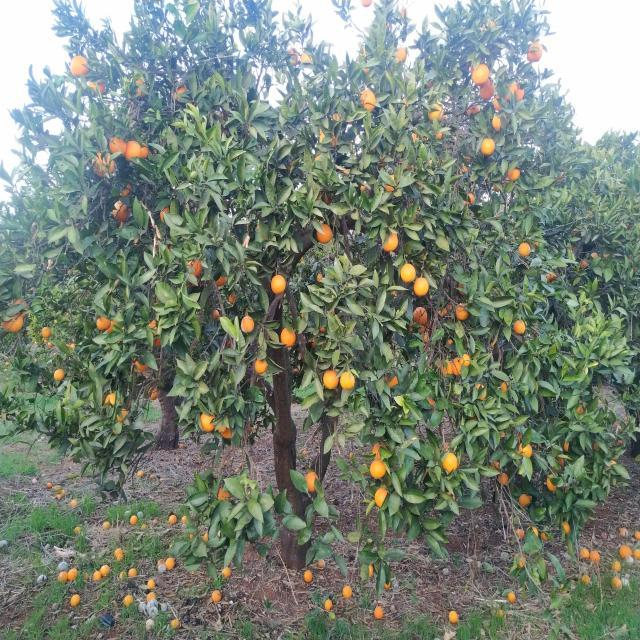Jeruk Sudah Matang: (90, 152, 116, 178), (504, 81, 524, 104), (124, 139, 142, 164), (70, 56, 90, 78), (1, 314, 23, 334), (112, 201, 132, 221), (472, 64, 490, 86), (110, 136, 127, 158), (359, 90, 376, 112), (199, 411, 215, 434), (369, 459, 387, 479), (478, 82, 496, 102), (270, 274, 286, 296), (381, 232, 398, 252), (400, 262, 416, 283), (428, 102, 444, 123), (150, 320, 162, 348), (186, 258, 202, 278), (280, 328, 296, 348), (303, 472, 319, 492), (322, 370, 338, 390), (316, 223, 332, 243), (528, 42, 544, 62), (443, 452, 458, 473), (134, 78, 148, 99), (414, 278, 430, 296), (480, 138, 496, 156), (492, 114, 508, 132), (372, 442, 387, 460), (440, 358, 453, 378), (104, 392, 120, 408), (218, 425, 236, 439), (340, 372, 354, 389), (414, 307, 428, 324), (89, 81, 107, 94), (374, 488, 387, 506), (452, 358, 464, 377), (288, 47, 300, 66), (96, 316, 111, 331), (394, 46, 406, 64), (546, 474, 558, 492), (507, 167, 521, 182), (518, 444, 532, 459), (134, 360, 147, 376), (467, 101, 480, 117), (456, 303, 468, 320), (474, 383, 486, 400), (618, 544, 632, 558), (384, 374, 398, 388), (217, 488, 230, 503), (170, 85, 185, 98), (518, 242, 530, 258), (514, 320, 526, 336), (241, 318, 254, 332), (518, 494, 532, 507), (300, 53, 314, 66), (140, 141, 150, 159), (118, 408, 130, 422), (255, 360, 267, 374), (560, 520, 572, 534), (66, 568, 78, 582), (148, 386, 159, 401), (159, 206, 169, 222), (494, 94, 504, 110), (386, 174, 396, 190), (460, 354, 470, 368), (448, 610, 458, 624), (342, 584, 352, 598), (216, 275, 227, 287), (579, 546, 590, 558), (500, 381, 510, 394), (304, 570, 313, 584), (42, 327, 52, 339), (54, 369, 64, 381), (498, 472, 508, 484), (374, 606, 384, 618), (166, 558, 176, 570), (465, 193, 475, 205), (548, 270, 558, 281), (590, 552, 599, 564), (114, 548, 124, 558), (508, 593, 516, 605), (169, 515, 177, 525), (130, 516, 138, 526), (580, 260, 587, 269)
